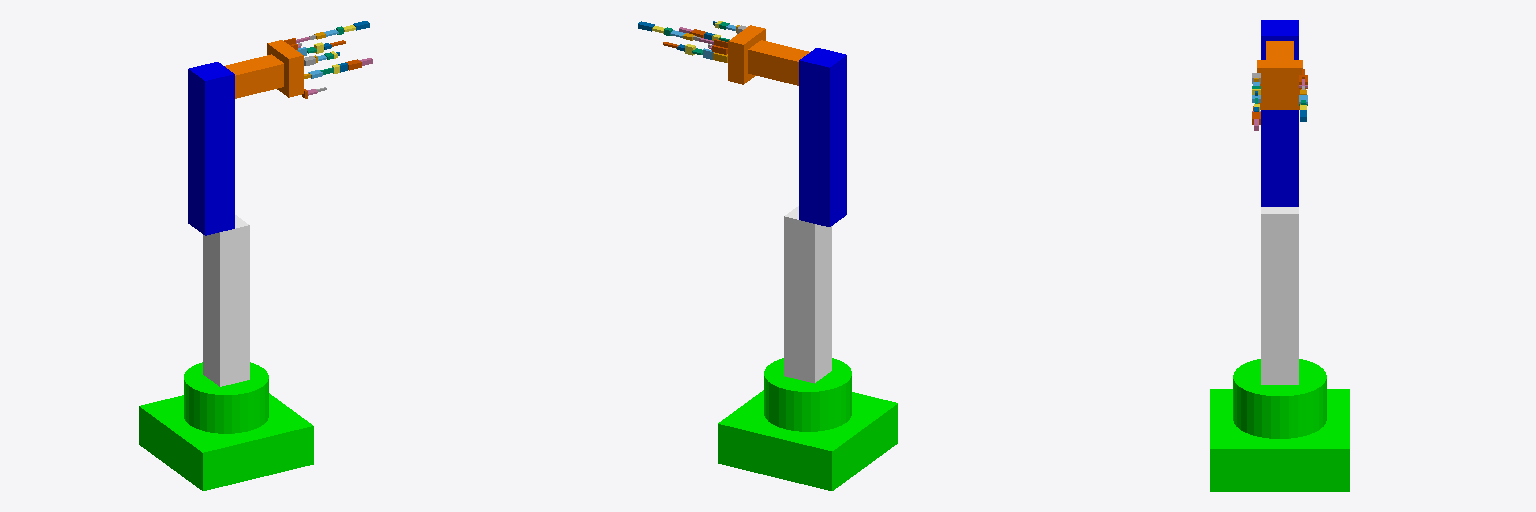
--- Render facts (derived) ---
3 views of the same robot in one strip: view 1: azimuth 30°, elevation 25°; view 2: azimuth 150°, elevation 25°; view 3: azimuth 270°, elevation 25° (orthographic).
Robot: robot — 38 links, 37 joints (34 revolute, 1 continuous, 2 fixed); root link base_link; default pose: every joint at zero.
Visible links, largest first — view 1: base_link, arm_link, support_link, wrist_link, palm_link; view 2: base_link, arm_link, support_link, wrist_link, palm_link; view 3: base_link, support_link, arm_link, palm_link, wrist_link.
Link boxes in pixels (x1,y1,x2,y2): base_link: (139, 362, 313, 490); arm_link: (188, 62, 234, 235); support_link: (203, 215, 249, 386); wrist_link: (225, 54, 283, 98); palm_link: (267, 40, 303, 97); base_link: (718, 358, 897, 490); arm_link: (799, 48, 846, 226); support_link: (784, 206, 831, 383); wrist_link: (748, 40, 809, 85); palm_link: (728, 25, 765, 84); base_link: (1210, 359, 1349, 491); support_link: (1261, 207, 1298, 384); arm_link: (1261, 20, 1298, 206); palm_link: (1257, 60, 1302, 109); wrist_link: (1266, 41, 1293, 59).
Size in the robot's own frame: 1.41 by 0.75 by 2.52 metres.
Geometry: primitives only (box / cylinder / sphere), no mesh files.

robot.urdf — robot:
<?xml version='1.0' encoding='utf-8'?>
<robot name="robot">
  <link name="base_link">
    <visual>
      <origin xyz="0 0 0.125" rpy="0 0 0" />
      <geometry>
        <box size="0.75 0.75 0.25" />
      </geometry>
      <material name="green" />
    </visual>
    <visual>
      <origin xyz="0 0 0.375" rpy="0 0 0" />
      <geometry>
        <cylinder length="0.25" radius="0.25" />
      </geometry>
      <material name="green">
        <color rgba="0 1 0 1" />
      </material>
    </visual>
    <collision>
      <geometry>
        <box size="0.75 0.75 0.5" />
      </geometry>
    </collision>
    <inertial>
      <mass value="0.5" />
      <inertia ixx="0.034" ixy="0.0" ixz="0.0" iyy="0.034" iyz="0.0" izz="0.034" />
    </inertial>
  </link>
  <link name="support_link">
    <visual>
      <origin xyz="0 0 0.5" rpy="0 0 0" />
      <geometry>
        <box size="0.2 0.2 1" />
      </geometry>
      <material name="white">
        <color rgba="1 1 1 1" />
      </material>
    </visual>
    <collision>
      <geometry>
        <box size="0.2 0.2 1" />
      </geometry>
    </collision>
    <inertial>
      <mass value="0.1" />
      <inertia ixx="0.01" ixy="0.0" ixz="0.0" iyy="0.01" iyz="0.0" izz="0.01" />
    </inertial>
  </link>
  <joint name="support_joint" type="continuous">
    <origin xyz="0 0 0.5" rpy="0 0 0" />
    <parent link="base_link" />
    <child link="support_link" />
    <axis xyz="0 0 1" />
  </joint>
  <link name="arm_link">
    <visual>
      <origin xyz="0 0 0.5" rpy="0 0 0" />
      <geometry>
        <box size="0.2 0.2 1" />
      </geometry>
      <material name="blue">
        <color rgba="0 0 1 1" />
      </material>
    </visual>
    <collision>
      <geometry>
        <box size="0.2 0.2 1" />
      </geometry>
    </collision>
    <inertial>
      <mass value="0.1" />
      <inertia ixx="0.01" ixy="0.0" ixz="0.0" iyy="0.01" iyz="0.0" izz="0.01" />
    </inertial>
  </link>
  <joint name="arm_joint" type="revolute">
    <origin xyz="-0.1 0 1" rpy="0 0 0" />
    <parent link="support_link" />
    <child link="arm_link" />
    <axis xyz="0 1 0" />
    <limit lower="-3.14" upper="3.14" effort="1.0" velocity="1.0" />
  </joint>
  <link name="wrist_link">
    <visual>
      <origin xyz="0 0 0.25" rpy="0 0 0" />
      <geometry>
        <box size="0.15 0.15 0.5" />
      </geometry>
      <material name="orange">
        <color rgba="1 0.5 0 1" />
      </material>
    </visual>
    <collision>
      <geometry>
        <box size="0.15 0.15 0.5" />
      </geometry>
    </collision>
    <inertial>
      <mass value="0.1" />
      <inertia ixx="0.01" ixy="0.0" ixz="0.0" iyy="0.01" iyz="0.0" izz="0.01" />
    </inertial>
  </link>
  <joint name="wrist_joint" type="fixed">
    <origin xyz="0 0 0.9" rpy="0 1.571 0" />
    <parent link="arm_link" />
    <child link="wrist_link" />
  </joint>
  <link name="palm_link">
    <visual>
      <origin xyz="0 0 0.05" rpy="0 0 0" />
      <geometry>
        <box size="0.25 0.25 0.1" />
      </geometry>
      <material name="orange" />
    </visual>
    <collision>
      <geometry>
        <box size="0.25 0.25 0.1" />
      </geometry>
    </collision>
    <inertial>
      <mass value="0.1" />
      <inertia ixx="0.01" ixy="0.0" ixz="0.0" iyy="0.01" iyz="0.0" izz="0.01" />
    </inertial>
  </link>
  <joint name="palm_joint" type="fixed">
    <origin xyz="0 0 0.45" rpy="0 0 0" />
    <parent link="wrist_link" />
    <child link="palm_link" />
  </joint>
  <link name="finger_link_0_0">
    <visual>
      <origin xyz="0 0 0.0455" rpy="0 0 0" />
      <geometry>
        <box size="0.047 0.011 0.091" />
      </geometry>
    </visual>
    <collision>
      <geometry>
        <box size="0.047 0.011 0.091" />
      </geometry>
    </collision>
    <inertial>
      <mass value="0.014" />
      <inertia ixx="0.0" iyy="0.0" izz="0.0" ixy="0" ixz="0" iyz="0" />
    </inertial>
  </link>
  <joint name="finger_joint_palm_link_to_finger_link_0_0" type="revolute">
    <origin xyz="-0.092 0.125 0.1" rpy="0 0 0" />
    <parent link="palm_link" />
    <child link="finger_link_0_0" />
    <axis xyz="-1.0 0.0 0.0" />
    <limit lower="-3.142" upper="3.142" effort="10" velocity="10" />
  </joint>
  <link name="finger_link_0_1">
    <visual>
      <origin xyz="0 0 0.047" rpy="0 0 0" />
      <geometry>
        <box size="0.015 0.019 0.094" />
      </geometry>
    </visual>
    <collision>
      <geometry>
        <box size="0.015 0.019 0.094" />
      </geometry>
    </collision>
    <inertial>
      <mass value="0.008" />
      <inertia ixx="0.0" iyy="0.0" izz="0.0" ixy="0" ixz="0" iyz="0" />
    </inertial>
  </link>
  <joint name="finger_joint_finger_link_0_0_to_finger_link_0_1" type="revolute">
    <origin xyz="0.0 0.0 0.091" rpy="0 0 0" />
    <parent link="finger_link_0_0" />
    <child link="finger_link_0_1" />
    <axis xyz="0.0 1.0 0.0" />
    <limit lower="-3.142" upper="3.142" effort="10" velocity="10" />
  </joint>
  <link name="finger_link_0_2">
    <visual>
      <origin xyz="0 0 0.021" rpy="0 0 0" />
      <geometry>
        <box size="0.023 0.011 0.042" />
      </geometry>
    </visual>
    <collision>
      <geometry>
        <box size="0.023 0.011 0.042" />
      </geometry>
    </collision>
    <inertial>
      <mass value="0.003" />
      <inertia ixx="0.0" iyy="0.0" izz="0.0" ixy="0" ixz="0" iyz="0" />
    </inertial>
  </link>
  <joint name="finger_joint_finger_link_0_1_to_finger_link_0_2" type="revolute">
    <origin xyz="0.0 0.0 0.094" rpy="0 0 0" />
    <parent link="finger_link_0_1" />
    <child link="finger_link_0_2" />
    <axis xyz="1.0 0.0 0.0" />
    <limit lower="-3.142" upper="3.142" effort="10" velocity="10" />
  </joint>
  <link name="finger_link_0_3">
    <visual>
      <origin xyz="0 0 0.0295" rpy="0 0 0" />
      <geometry>
        <box size="0.021 0.04 0.059" />
      </geometry>
    </visual>
    <collision>
      <geometry>
        <box size="0.021 0.04 0.059" />
      </geometry>
    </collision>
    <inertial>
      <mass value="0.015" />
      <inertia ixx="0.0" iyy="0.0" izz="0.0" ixy="0" ixz="0" iyz="0" />
    </inertial>
  </link>
  <joint name="finger_joint_finger_link_0_2_to_finger_link_0_3" type="revolute">
    <origin xyz="0.0 0.0 0.042" rpy="0 0 0" />
    <parent link="finger_link_0_2" />
    <child link="finger_link_0_3" />
    <axis xyz="1.0 1.0 0.0" />
    <limit lower="-3.142" upper="3.142" effort="10" velocity="10" />
  </joint>
  <link name="finger_link_0_4">
    <visual>
      <origin xyz="0 0 0.0425" rpy="0 0 0" />
      <geometry>
        <box size="0.011 0.045 0.085" />
      </geometry>
    </visual>
    <collision>
      <geometry>
        <box size="0.011 0.045 0.085" />
      </geometry>
    </collision>
    <inertial>
      <mass value="0.013" />
      <inertia ixx="0.0" iyy="0.0" izz="0.0" ixy="0" ixz="0" iyz="0" />
    </inertial>
  </link>
  <joint name="finger_joint_finger_link_0_3_to_finger_link_0_4" type="revolute">
    <origin xyz="0.0 0.0 0.059" rpy="0 0 0" />
    <parent link="finger_link_0_3" />
    <child link="finger_link_0_4" />
    <axis xyz="1.0 0.0 0.0" />
    <limit lower="-3.142" upper="3.142" effort="10" velocity="10" />
  </joint>
  <link name="finger_link_0_5">
    <visual>
      <origin xyz="0 0 0.02" rpy="0 0 0" />
      <geometry>
        <box size="0.036 0.03 0.04" />
      </geometry>
    </visual>
    <collision>
      <geometry>
        <box size="0.036 0.03 0.04" />
      </geometry>
    </collision>
    <inertial>
      <mass value="0.013" />
      <inertia ixx="0.0" iyy="0.0" izz="0.0" ixy="0" ixz="0" iyz="0" />
    </inertial>
  </link>
  <joint name="finger_joint_finger_link_0_4_to_finger_link_0_5" type="revolute">
    <origin xyz="0.0 0.0 0.085" rpy="0 0 0" />
    <parent link="finger_link_0_4" />
    <child link="finger_link_0_5" />
    <axis xyz="1.0 0.0 0.0" />
    <limit lower="-3.142" upper="3.142" effort="10" velocity="10" />
  </joint>
  <link name="finger_link_0_6">
    <visual>
      <origin xyz="0 0 0.0395" rpy="0 0 0" />
      <geometry>
        <box size="0.016 0.041 0.079" />
      </geometry>
    </visual>
    <collision>
      <geometry>
        <box size="0.016 0.041 0.079" />
      </geometry>
    </collision>
    <inertial>
      <mass value="0.016" />
      <inertia ixx="0.0" iyy="0.0" izz="0.0" ixy="0" ixz="0" iyz="0" />
    </inertial>
  </link>
  <joint name="finger_joint_finger_link_0_5_to_finger_link_0_6" type="revolute">
    <origin xyz="0.0 0.0 0.04" rpy="0 0 0" />
    <parent link="finger_link_0_5" />
    <child link="finger_link_0_6" />
    <axis xyz="1.0 0.0 0.0" />
    <limit lower="-3.142" upper="3.142" effort="10" velocity="10" />
  </joint>
  <link name="finger_link_0_7">
    <visual>
      <origin xyz="0 0 0.0465" rpy="0 0 0" />
      <geometry>
        <box size="0.028 0.041 0.093" />
      </geometry>
    </visual>
    <collision>
      <geometry>
        <box size="0.028 0.041 0.093" />
      </geometry>
    </collision>
    <inertial>
      <mass value="0.032" />
      <inertia ixx="0.0" iyy="0.0" izz="0.0" ixy="0" ixz="0" iyz="0" />
    </inertial>
  </link>
  <joint name="finger_joint_finger_link_0_6_to_finger_link_0_7" type="revolute">
    <origin xyz="0.0 0.0 0.079" rpy="0 0 0" />
    <parent link="finger_link_0_6" />
    <child link="finger_link_0_7" />
    <axis xyz="0.0 1.0 0.0" />
    <limit lower="-3.142" upper="3.142" effort="10" velocity="10" />
  </joint>
  <link name="finger_link_1_0">
    <visual>
      <origin xyz="0 0 0.046" rpy="0 0 0" />
      <geometry>
        <box size="0.036 0.044 0.092" />
      </geometry>
    </visual>
    <collision>
      <geometry>
        <box size="0.036 0.044 0.092" />
      </geometry>
    </collision>
    <inertial>
      <mass value="0.044" />
      <inertia ixx="0.0" iyy="0.0" izz="0.0" ixy="0" ixz="0" iyz="0" />
    </inertial>
  </link>
  <joint name="finger_joint_palm_link_to_finger_link_1_0" type="revolute">
    <origin xyz="-0.064 0.125 0.1" rpy="0 0 0" />
    <parent link="palm_link" />
    <child link="finger_link_1_0" />
    <axis xyz="-1.0 0.0 0.0" />
    <limit lower="-3.142" upper="3.142" effort="10" velocity="10" />
  </joint>
  <link name="finger_link_1_1">
    <visual>
      <origin xyz="0 0 0.01" rpy="0 0 0" />
      <geometry>
        <box size="0.01 0.048 0.02" />
      </geometry>
    </visual>
    <collision>
      <geometry>
        <box size="0.01 0.048 0.02" />
      </geometry>
    </collision>
    <inertial>
      <mass value="0.003" />
      <inertia ixx="0.0" iyy="0.0" izz="0.0" ixy="0" ixz="0" iyz="0" />
    </inertial>
  </link>
  <joint name="finger_joint_finger_link_1_0_to_finger_link_1_1" type="revolute">
    <origin xyz="0.0 0.0 0.092" rpy="0 0 0" />
    <parent link="finger_link_1_0" />
    <child link="finger_link_1_1" />
    <axis xyz="0.0 1.0 0.0" />
    <limit lower="-3.142" upper="3.142" effort="10" velocity="10" />
  </joint>
  <link name="finger_link_1_2">
    <visual>
      <origin xyz="0 0 0.0105" rpy="0 0 0" />
      <geometry>
        <box size="0.018 0.012 0.021" />
      </geometry>
    </visual>
    <collision>
      <geometry>
        <box size="0.018 0.012 0.021" />
      </geometry>
    </collision>
    <inertial>
      <mass value="0.001" />
      <inertia ixx="0.0" iyy="0.0" izz="0.0" ixy="0" ixz="0" iyz="0" />
    </inertial>
  </link>
  <joint name="finger_joint_finger_link_1_1_to_finger_link_1_2" type="revolute">
    <origin xyz="0.0 0.0 0.02" rpy="0 0 0" />
    <parent link="finger_link_1_1" />
    <child link="finger_link_1_2" />
    <axis xyz="0.0 1.0 0.0" />
    <limit lower="-3.142" upper="3.142" effort="10" velocity="10" />
  </joint>
  <link name="finger_link_2_0">
    <visual>
      <origin xyz="0 0 0.0215" rpy="0 0 0" />
      <geometry>
        <box size="0.02 0.021 0.043" />
      </geometry>
    </visual>
    <collision>
      <geometry>
        <box size="0.02 0.021 0.043" />
      </geometry>
    </collision>
    <inertial>
      <mass value="0.005" />
      <inertia ixx="0.0" iyy="0.0" izz="0.0" ixy="0" ixz="0" iyz="0" />
    </inertial>
  </link>
  <joint name="finger_joint_palm_link_to_finger_link_2_0" type="revolute">
    <origin xyz="0.015 -0.125 0.1" rpy="0 0 0" />
    <parent link="palm_link" />
    <child link="finger_link_2_0" />
    <axis xyz="1.0 0.0 0.0" />
    <limit lower="-3.142" upper="3.142" effort="10" velocity="10" />
  </joint>
  <link name="finger_link_2_1">
    <visual>
      <origin xyz="0 0 0.0365" rpy="0 0 0" />
      <geometry>
        <box size="0.024 0.049 0.073" />
      </geometry>
    </visual>
    <collision>
      <geometry>
        <box size="0.024 0.049 0.073" />
      </geometry>
    </collision>
    <inertial>
      <mass value="0.026" />
      <inertia ixx="0.0" iyy="0.0" izz="0.0" ixy="0" ixz="0" iyz="0" />
    </inertial>
  </link>
  <joint name="finger_joint_finger_link_2_0_to_finger_link_2_1" type="revolute">
    <origin xyz="0.0 0.0 0.043" rpy="0 0 0" />
    <parent link="finger_link_2_0" />
    <child link="finger_link_2_1" />
    <axis xyz="0.0 1.0 0.0" />
    <limit lower="-3.142" upper="3.142" effort="10" velocity="10" />
  </joint>
  <link name="finger_link_2_2">
    <visual>
      <origin xyz="0 0 0.0415" rpy="0 0 0" />
      <geometry>
        <box size="0.028 0.014 0.083" />
      </geometry>
    </visual>
    <collision>
      <geometry>
        <box size="0.028 0.014 0.083" />
      </geometry>
    </collision>
    <inertial>
      <mass value="0.01" />
      <inertia ixx="0.0" iyy="0.0" izz="0.0" ixy="0" ixz="0" iyz="0" />
    </inertial>
  </link>
  <joint name="finger_joint_finger_link_2_1_to_finger_link_2_2" type="revolute">
    <origin xyz="0.0 0.0 0.073" rpy="0 0 0" />
    <parent link="finger_link_2_1" />
    <child link="finger_link_2_2" />
    <axis xyz="0.0 1.0 0.0" />
    <limit lower="-3.142" upper="3.142" effort="10" velocity="10" />
  </joint>
  <link name="finger_link_2_3">
    <visual>
      <origin xyz="0 0 0.0205" rpy="0 0 0" />
      <geometry>
        <box size="0.043 0.032 0.041" />
      </geometry>
    </visual>
    <collision>
      <geometry>
        <box size="0.043 0.032 0.041" />
      </geometry>
    </collision>
    <inertial>
      <mass value="0.017" />
      <inertia ixx="0.0" iyy="0.0" izz="0.0" ixy="0" ixz="0" iyz="0" />
    </inertial>
  </link>
  <joint name="finger_joint_finger_link_2_2_to_finger_link_2_3" type="revolute">
    <origin xyz="0.0 0.0 0.083" rpy="0 0 0" />
    <parent link="finger_link_2_2" />
    <child link="finger_link_2_3" />
    <axis xyz="0.0 1.0 0.0" />
    <limit lower="-3.142" upper="3.142" effort="10" velocity="10" />
  </joint>
  <link name="finger_link_2_4">
    <visual>
      <origin xyz="0 0 0.0275" rpy="0 0 0" />
      <geometry>
        <box size="0.043 0.028 0.055" />
      </geometry>
    </visual>
    <collision>
      <geometry>
        <box size="0.043 0.028 0.055" />
      </geometry>
    </collision>
    <inertial>
      <mass value="0.02" />
      <inertia ixx="0.0" iyy="0.0" izz="0.0" ixy="0" ixz="0" iyz="0" />
    </inertial>
  </link>
  <joint name="finger_joint_finger_link_2_3_to_finger_link_2_4" type="revolute">
    <origin xyz="0.0 0.0 0.041" rpy="0 0 0" />
    <parent link="finger_link_2_3" />
    <child link="finger_link_2_4" />
    <axis xyz="1.0 0.0 0.0" />
    <limit lower="-3.142" upper="3.142" effort="10" velocity="10" />
  </joint>
  <link name="finger_link_2_5">
    <visual>
      <origin xyz="0 0 0.042" rpy="0 0 0" />
      <geometry>
        <box size="0.035 0.048 0.084" />
      </geometry>
    </visual>
    <collision>
      <geometry>
        <box size="0.035 0.048 0.084" />
      </geometry>
    </collision>
    <inertial>
      <mass value="0.042" />
      <inertia ixx="0.0" iyy="0.0" izz="0.0" ixy="0" ixz="0" iyz="0" />
    </inertial>
  </link>
  <joint name="finger_joint_finger_link_2_4_to_finger_link_2_5" type="revolute">
    <origin xyz="0.0 0.0 0.055" rpy="0 0 0" />
    <parent link="finger_link_2_4" />
    <child link="finger_link_2_5" />
    <axis xyz="0.0 1.0 0.0" />
    <limit lower="-3.142" upper="3.142" effort="10" velocity="10" />
  </joint>
  <link name="finger_link_2_6">
    <visual>
      <origin xyz="0 0 0.042" rpy="0 0 0" />
      <geometry>
        <box size="0.028 0.026 0.084" />
      </geometry>
    </visual>
    <collision>
      <geometry>
        <box size="0.028 0.026 0.084" />
      </geometry>
    </collision>
    <inertial>
      <mass value="0.018" />
      <inertia ixx="0.0" iyy="0.0" izz="0.0" ixy="0" ixz="0" iyz="0" />
    </inertial>
  </link>
  <joint name="finger_joint_finger_link_2_5_to_finger_link_2_6" type="revolute">
    <origin xyz="0.0 0.0 0.084" rpy="0 0 0" />
    <parent link="finger_link_2_5" />
    <child link="finger_link_2_6" />
    <axis xyz="0.0 1.0 0.0" />
    <limit lower="-3.142" upper="3.142" effort="10" velocity="10" />
  </joint>
  <link name="finger_link_3_0">
    <visual>
      <origin xyz="0 0 0.037" rpy="0 0 0" />
      <geometry>
        <box size="0.034 0.046 0.074" />
      </geometry>
    </visual>
    <collision>
      <geometry>
        <box size="0.034 0.046 0.074" />
      </geometry>
    </collision>
    <inertial>
      <mass value="0.035" />
      <inertia ixx="0.0" iyy="0.0" izz="0.0" ixy="0" ixz="0" iyz="0" />
    </inertial>
  </link>
  <joint name="finger_joint_palm_link_to_finger_link_3_0" type="revolute">
    <origin xyz="-0.08 -0.125 0.1" rpy="0 0 0" />
    <parent link="palm_link" />
    <child link="finger_link_3_0" />
    <axis xyz="1.0 0.0 0.0" />
    <limit lower="-3.142" upper="3.142" effort="10" velocity="10" />
  </joint>
  <link name="finger_link_3_1">
    <visual>
      <origin xyz="0 0 0.0075" rpy="0 0 0" />
      <geometry>
        <box size="0.04 0.026 0.015" />
      </geometry>
    </visual>
    <collision>
      <geometry>
        <box size="0.04 0.026 0.015" />
      </geometry>
    </collision>
    <inertial>
      <mass value="0.005" />
      <inertia ixx="0.0" iyy="0.0" izz="0.0" ixy="0" ixz="0" iyz="0" />
    </inertial>
  </link>
  <joint name="finger_joint_finger_link_3_0_to_finger_link_3_1" type="revolute">
    <origin xyz="0.0 0.0 0.074" rpy="0 0 0" />
    <parent link="finger_link_3_0" />
    <child link="finger_link_3_1" />
    <axis xyz="1.0 1.0 0.0" />
    <limit lower="-3.142" upper="3.142" effort="10" velocity="10" />
  </joint>
  <link name="finger_link_3_2">
    <visual>
      <origin xyz="0 0 0.0305" rpy="0 0 0" />
      <geometry>
        <box size="0.012 0.041 0.061" />
      </geometry>
    </visual>
    <collision>
      <geometry>
        <box size="0.012 0.041 0.061" />
      </geometry>
    </collision>
    <inertial>
      <mass value="0.009" />
      <inertia ixx="0.0" iyy="0.0" izz="0.0" ixy="0" ixz="0" iyz="0" />
    </inertial>
  </link>
  <joint name="finger_joint_finger_link_3_1_to_finger_link_3_2" type="revolute">
    <origin xyz="0.0 0.0 0.015" rpy="0 0 0" />
    <parent link="finger_link_3_1" />
    <child link="finger_link_3_2" />
    <axis xyz="0.0 1.0 0.0" />
    <limit lower="-3.142" upper="3.142" effort="10" velocity="10" />
  </joint>
  <link name="finger_link_3_3">
    <visual>
      <origin xyz="0 0 0.0215" rpy="0 0 0" />
      <geometry>
        <box size="0.022 0.045 0.043" />
      </geometry>
    </visual>
    <collision>
      <geometry>
        <box size="0.022 0.045 0.043" />
      </geometry>
    </collision>
    <inertial>
      <mass value="0.013" />
      <inertia ixx="0.0" iyy="0.0" izz="0.0" ixy="0" ixz="0" iyz="0" />
    </inertial>
  </link>
  <joint name="finger_joint_finger_link_3_2_to_finger_link_3_3" type="revolute">
    <origin xyz="0.0 0.0 0.061" rpy="0 0 0" />
    <parent link="finger_link_3_2" />
    <child link="finger_link_3_3" />
    <axis xyz="1.0 0.0 0.0" />
    <limit lower="-3.142" upper="3.142" effort="10" velocity="10" />
  </joint>
  <link name="finger_link_3_4">
    <visual>
      <origin xyz="0 0 0.0115" rpy="0 0 0" />
      <geometry>
        <box size="0.027 0.048 0.023" />
      </geometry>
    </visual>
    <collision>
      <geometry>
        <box size="0.027 0.048 0.023" />
      </geometry>
    </collision>
    <inertial>
      <mass value="0.009" />
      <inertia ixx="0.0" iyy="0.0" izz="0.0" ixy="0" ixz="0" iyz="0" />
    </inertial>
  </link>
  <joint name="finger_joint_finger_link_3_3_to_finger_link_3_4" type="revolute">
    <origin xyz="0.0 0.0 0.043" rpy="0 0 0" />
    <parent link="finger_link_3_3" />
    <child link="finger_link_3_4" />
    <axis xyz="0.0 1.0 0.0" />
    <limit lower="-3.142" upper="3.142" effort="10" velocity="10" />
  </joint>
  <link name="finger_link_3_5">
    <visual>
      <origin xyz="0 0 0.0135" rpy="0 0 0" />
      <geometry>
        <box size="0.02 0.012 0.027" />
      </geometry>
    </visual>
    <collision>
      <geometry>
        <box size="0.02 0.012 0.027" />
      </geometry>
    </collision>
    <inertial>
      <mass value="0.002" />
      <inertia ixx="0.0" iyy="0.0" izz="0.0" ixy="0" ixz="0" iyz="0" />
    </inertial>
  </link>
  <joint name="finger_joint_finger_link_3_4_to_finger_link_3_5" type="revolute">
    <origin xyz="0.0 0.0 0.023" rpy="0 0 0" />
    <parent link="finger_link_3_4" />
    <child link="finger_link_3_5" />
    <axis xyz="0.0 1.0 0.0" />
    <limit lower="-3.142" upper="3.142" effort="10" velocity="10" />
  </joint>
  <link name="finger_link_4_0">
    <visual>
      <origin xyz="0 0 0.009" rpy="0 0 0" />
      <geometry>
        <box size="0.047 0.042 0.018" />
      </geometry>
    </visual>
    <collision>
      <geometry>
        <box size="0.047 0.042 0.018" />
      </geometry>
    </collision>
    <inertial>
      <mass value="0.011" />
      <inertia ixx="0.0" iyy="0.0" izz="0.0" ixy="0" ixz="0" iyz="0" />
    </inertial>
  </link>
  <joint name="finger_joint_palm_link_to_finger_link_4_0" type="revolute">
    <origin xyz="0.125 -0.125 0.1" rpy="0 0 0" />
    <parent link="palm_link" />
    <child link="finger_link_4_0" />
    <axis xyz="1.0 0.0 0.0" />
    <limit lower="-3.142" upper="3.142" effort="10" velocity="10" />
  </joint>
  <link name="finger_link_4_1">
    <visual>
      <origin xyz="0 0 0.035" rpy="0 0 0" />
      <geometry>
        <box size="0.012 0.043 0.07" />
      </geometry>
    </visual>
    <collision>
      <geometry>
        <box size="0.012 0.043 0.07" />
      </geometry>
    </collision>
    <inertial>
      <mass value="0.011" />
      <inertia ixx="0.0" iyy="0.0" izz="0.0" ixy="0" ixz="0" iyz="0" />
    </inertial>
  </link>
  <joint name="finger_joint_finger_link_4_0_to_finger_link_4_1" type="revolute">
    <origin xyz="0.0 0.0 0.018" rpy="0 0 0" />
    <parent link="finger_link_4_0" />
    <child link="finger_link_4_1" />
    <axis xyz="1.0 1.0 0.0" />
    <limit lower="-3.142" upper="3.142" effort="10" velocity="10" />
  </joint>
  <link name="finger_link_4_2">
    <visual>
      <origin xyz="0 0 0.032" rpy="0 0 0" />
      <geometry>
        <box size="0.014 0.013 0.064" />
      </geometry>
    </visual>
    <collision>
      <geometry>
        <box size="0.014 0.013 0.064" />
      </geometry>
    </collision>
    <inertial>
      <mass value="0.003" />
      <inertia ixx="0.0" iyy="0.0" izz="0.0" ixy="0" ixz="0" iyz="0" />
    </inertial>
  </link>
  <joint name="finger_joint_finger_link_4_1_to_finger_link_4_2" type="revolute">
    <origin xyz="0.0 0.0 0.07" rpy="0 0 0" />
    <parent link="finger_link_4_1" />
    <child link="finger_link_4_2" />
    <axis xyz="0.0 1.0 0.0" />
    <limit lower="-3.142" upper="3.142" effort="10" velocity="10" />
  </joint>
  <link name="finger_link_5_0">
    <visual>
      <origin xyz="0 0 0.047" rpy="0 0 0" />
      <geometry>
        <box size="0.041 0.031 0.094" />
      </geometry>
    </visual>
    <collision>
      <geometry>
        <box size="0.041 0.031 0.094" />
      </geometry>
    </collision>
    <inertial>
      <mass value="0.036" />
      <inertia ixx="0.0" iyy="0.0" izz="0.0" ixy="0" ixz="0" iyz="0" />
    </inertial>
  </link>
  <joint name="finger_joint_palm_link_to_finger_link_5_0" type="revolute">
    <origin xyz="-0.013 0.125 0.1" rpy="0 0 0" />
    <parent link="palm_link" />
    <child link="finger_link_5_0" />
    <axis xyz="-1.0 0.0 0.0" />
    <limit lower="-3.142" upper="3.142" effort="10" velocity="10" />
  </joint>
  <link name="finger_link_5_1">
    <visual>
      <origin xyz="0 0 0.0345" rpy="0 0 0" />
      <geometry>
        <box size="0.05 0.02 0.069" />
      </geometry>
    </visual>
    <collision>
      <geometry>
        <box size="0.05 0.02 0.069" />
      </geometry>
    </collision>
    <inertial>
      <mass value="0.021" />
      <inertia ixx="0.0" iyy="0.0" izz="0.0" ixy="0" ixz="0" iyz="0" />
    </inertial>
  </link>
  <joint name="finger_joint_finger_link_5_0_to_finger_link_5_1" type="revolute">
    <origin xyz="0.0 0.0 0.094" rpy="0 0 0" />
    <parent link="finger_link_5_0" />
    <child link="finger_link_5_1" />
    <axis xyz="0.0 1.0 0.0" />
    <limit lower="-3.142" upper="3.142" effort="10" velocity="10" />
  </joint>
  <link name="finger_link_5_2">
    <visual>
      <origin xyz="0 0 0.03" rpy="0 0 0" />
      <geometry>
        <box size="0.012 0.049 0.06" />
      </geometry>
    </visual>
    <collision>
      <geometry>
        <box size="0.012 0.049 0.06" />
      </geometry>
    </collision>
    <inertial>
      <mass value="0.011" />
      <inertia ixx="0.0" iyy="0.0" izz="0.0" ixy="0" ixz="0" iyz="0" />
    </inertial>
  </link>
  <joint name="finger_joint_finger_link_5_1_to_finger_link_5_2" type="revolute">
    <origin xyz="0.0 0.0 0.069" rpy="0 0 0" />
    <parent link="finger_link_5_1" />
    <child link="finger_link_5_2" />
    <axis xyz="1.0 0.0 0.0" />
    <limit lower="-3.142" upper="3.142" effort="10" velocity="10" />
  </joint>
  <link name="finger_link_5_3">
    <visual>
      <origin xyz="0 0 0.026" rpy="0 0 0" />
      <geometry>
        <box size="0.05 0.032 0.052" />
      </geometry>
    </visual>
    <collision>
      <geometry>
        <box size="0.05 0.032 0.052" />
      </geometry>
    </collision>
    <inertial>
      <mass value="0.025" />
      <inertia ixx="0.0" iyy="0.0" izz="0.0" ixy="0" ixz="0" iyz="0" />
    </inertial>
  </link>
  <joint name="finger_joint_finger_link_5_2_to_finger_link_5_3" type="revolute">
    <origin xyz="0.0 0.0 0.06" rpy="0 0 0" />
    <parent link="finger_link_5_2" />
    <child link="finger_link_5_3" />
    <axis xyz="0.0 1.0 0.0" />
    <limit lower="-3.142" upper="3.142" effort="10" velocity="10" />
  </joint>
  <link name="finger_link_5_4">
    <visual>
      <origin xyz="0 0 0.024" rpy="0 0 0" />
      <geometry>
        <box size="0.02 0.039 0.048" />
      </geometry>
    </visual>
    <collision>
      <geometry>
        <box size="0.02 0.039 0.048" />
      </geometry>
    </collision>
    <inertial>
      <mass value="0.011" />
      <inertia ixx="0.0" iyy="0.0" izz="0.0" ixy="0" ixz="0" iyz="0" />
    </inertial>
  </link>
  <joint name="finger_joint_finger_link_5_3_to_finger_link_5_4" type="revolute">
    <origin xyz="0.0 0.0 0.052" rpy="0 0 0" />
    <parent link="finger_link_5_3" />
    <child link="finger_link_5_4" />
    <axis xyz="1.0 1.0 0.0" />
    <limit lower="-3.142" upper="3.142" effort="10" velocity="10" />
  </joint>
  <link name="finger_link_5_5">
    <visual>
      <origin xyz="0 0 0.05" rpy="0 0 0" />
      <geometry>
        <box size="0.013 0.025 0.1" />
      </geometry>
    </visual>
    <collision>
      <geometry>
        <box size="0.013 0.025 0.1" />
      </geometry>
    </collision>
    <inertial>
      <mass value="0.01" />
      <inertia ixx="0.0" iyy="0.0" izz="0.0" ixy="0" ixz="0" iyz="0" />
    </inertial>
  </link>
  <joint name="finger_joint_finger_link_5_4_to_finger_link_5_5" type="revolute">
    <origin xyz="0.0 0.0 0.048" rpy="0 0 0" />
    <parent link="finger_link_5_4" />
    <child link="finger_link_5_5" />
    <axis xyz="0.0 1.0 0.0" />
    <limit lower="-3.142" upper="3.142" effort="10" velocity="10" />
  </joint>
</robot>
